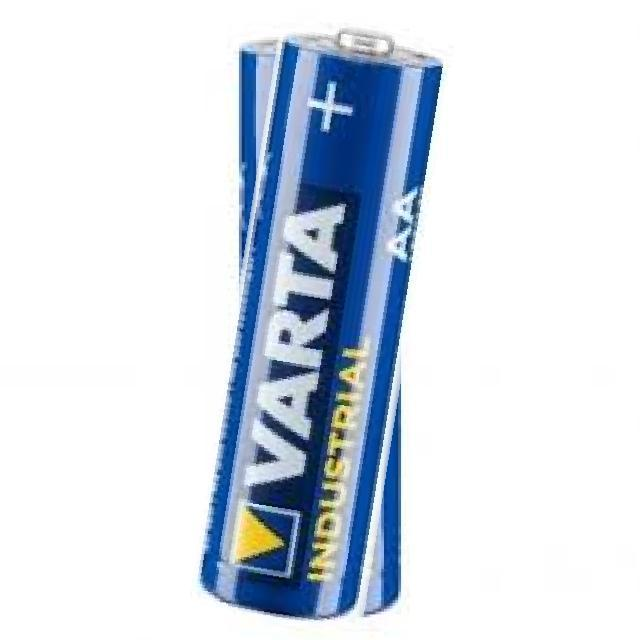Battery: (196, 23, 449, 618), (237, 38, 289, 281), (357, 366, 404, 628)
